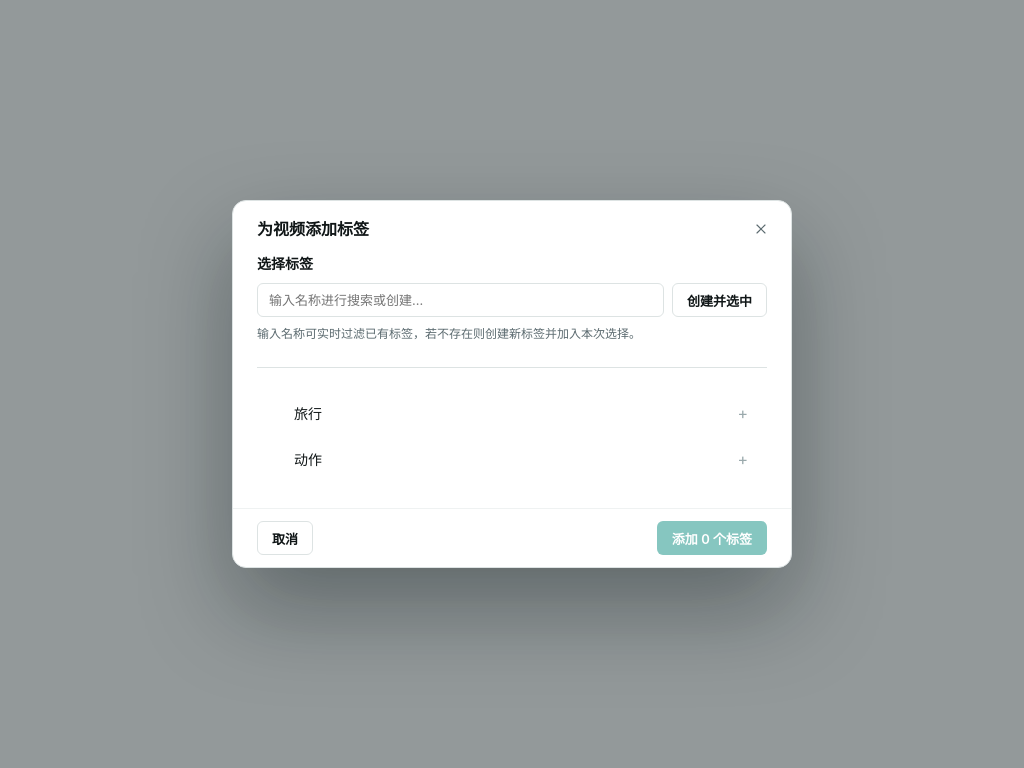
Test: 添加标签输入 › 取消选择保留正在输入的搜索词
The width and height of the screenshot is (1024, 768).
Step 1. Click the element with class "clickable-tag-item" showing "旅行 +" → (308, 414), box [294, 403, 748, 423]
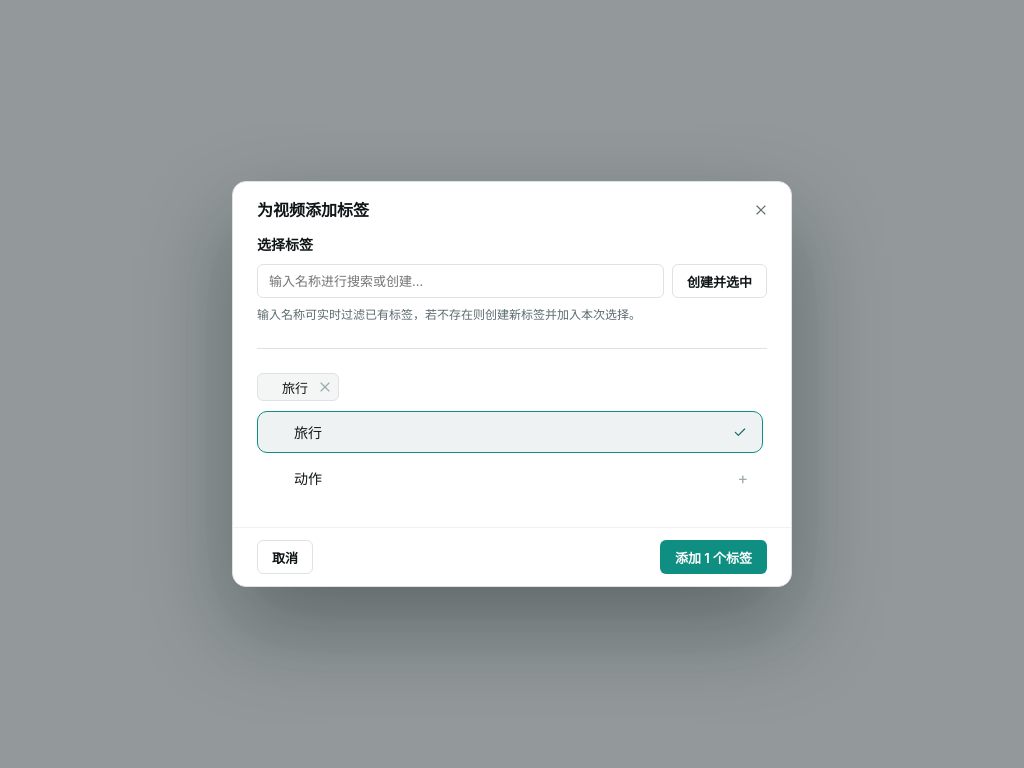
Step 2. Type "动作" into the field with placeholder "输入名称进行搜索或创建…" → (460, 281), box [257, 264, 664, 298]
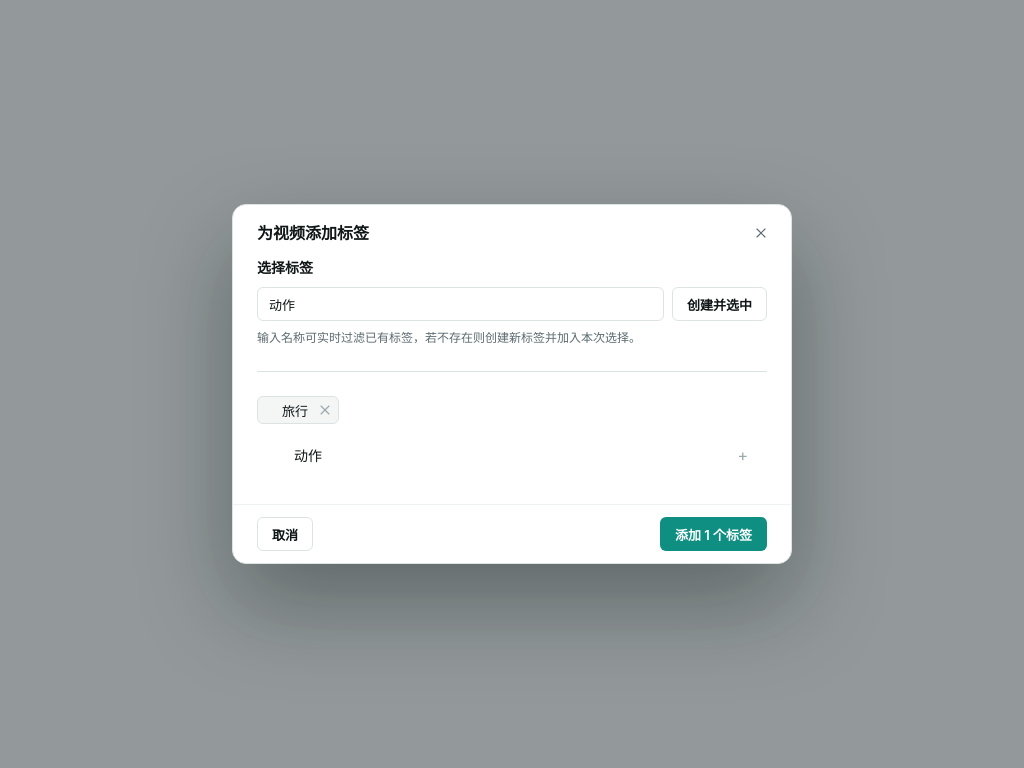
Step 3. Click the button with class "remove-selected-tag" → (325, 410), box [314, 399, 336, 421]
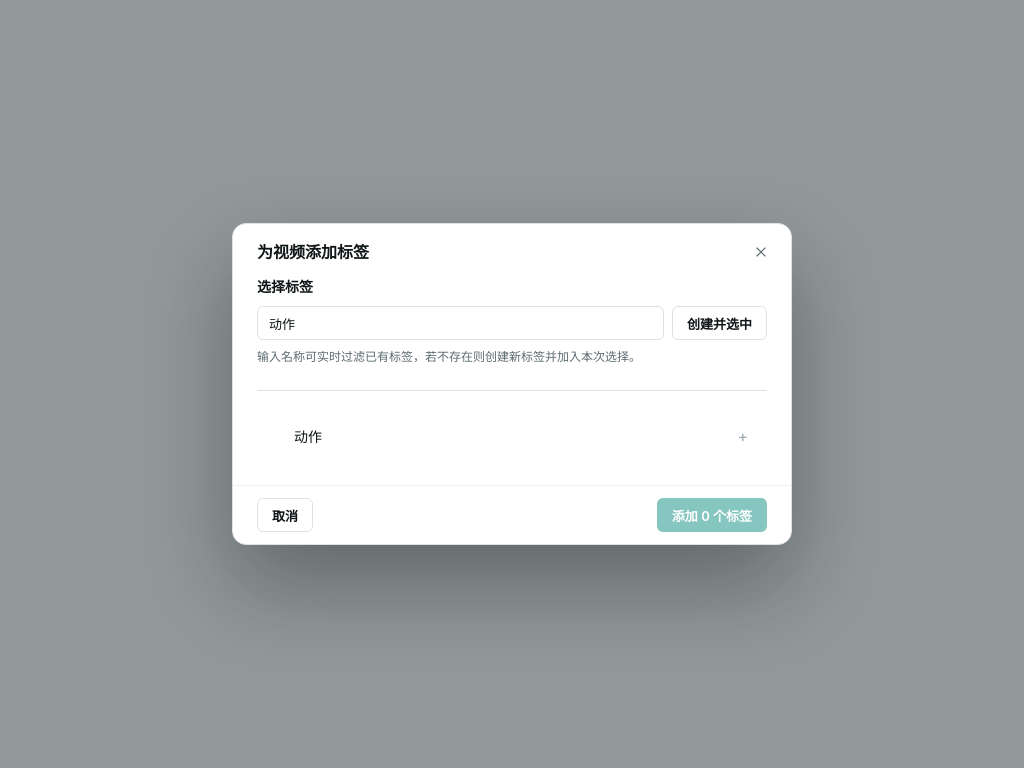
Check: no elements with class "selected-tag-pill" are shown
